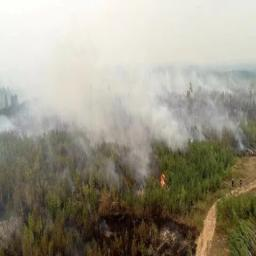Heavy smoke: (3, 11, 256, 190)
